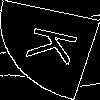K: (25, 25, 90, 69)
